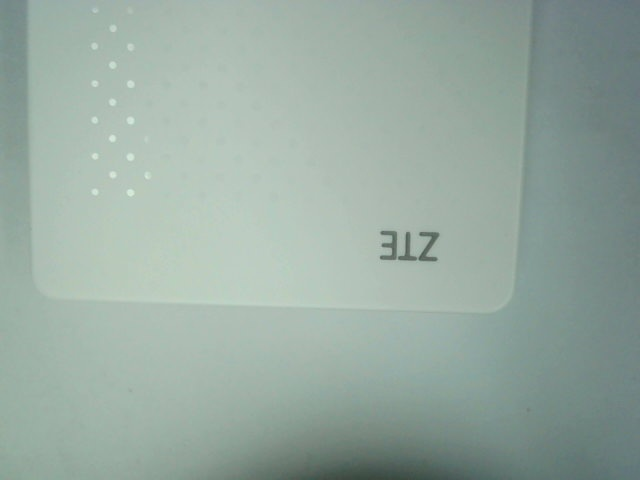AN_ZTE: (374, 222, 446, 266)
